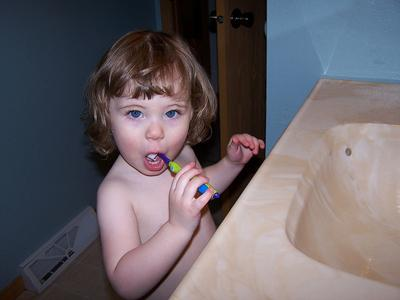person: (84, 28, 269, 300)
